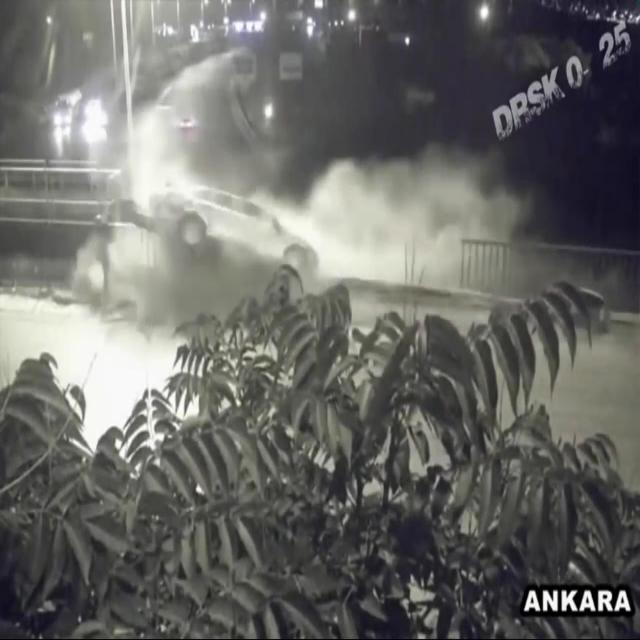severe: (170, 174, 322, 302)
